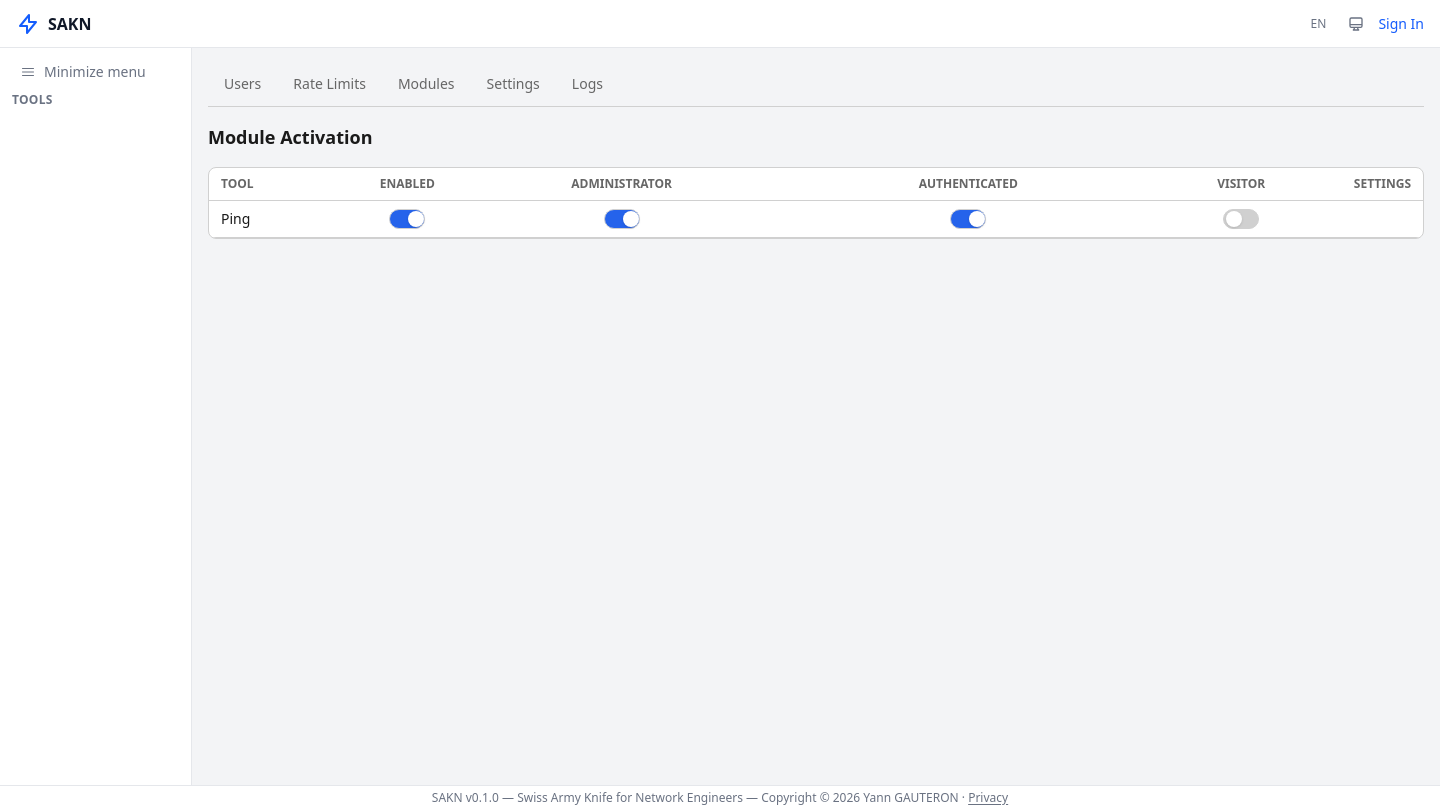
it: AdminModulesPage › interactions › preserves role permission values when toggling enabled off and on
Expected: the text "Ping" is shown, [209,200,367,238]
Expected: the 2nd switch is checked, [604,209,640,229]
Toggle Enabled OFF → role toggles become disabled
Click the 1st switch at (407, 219), box [389,209,425,229]
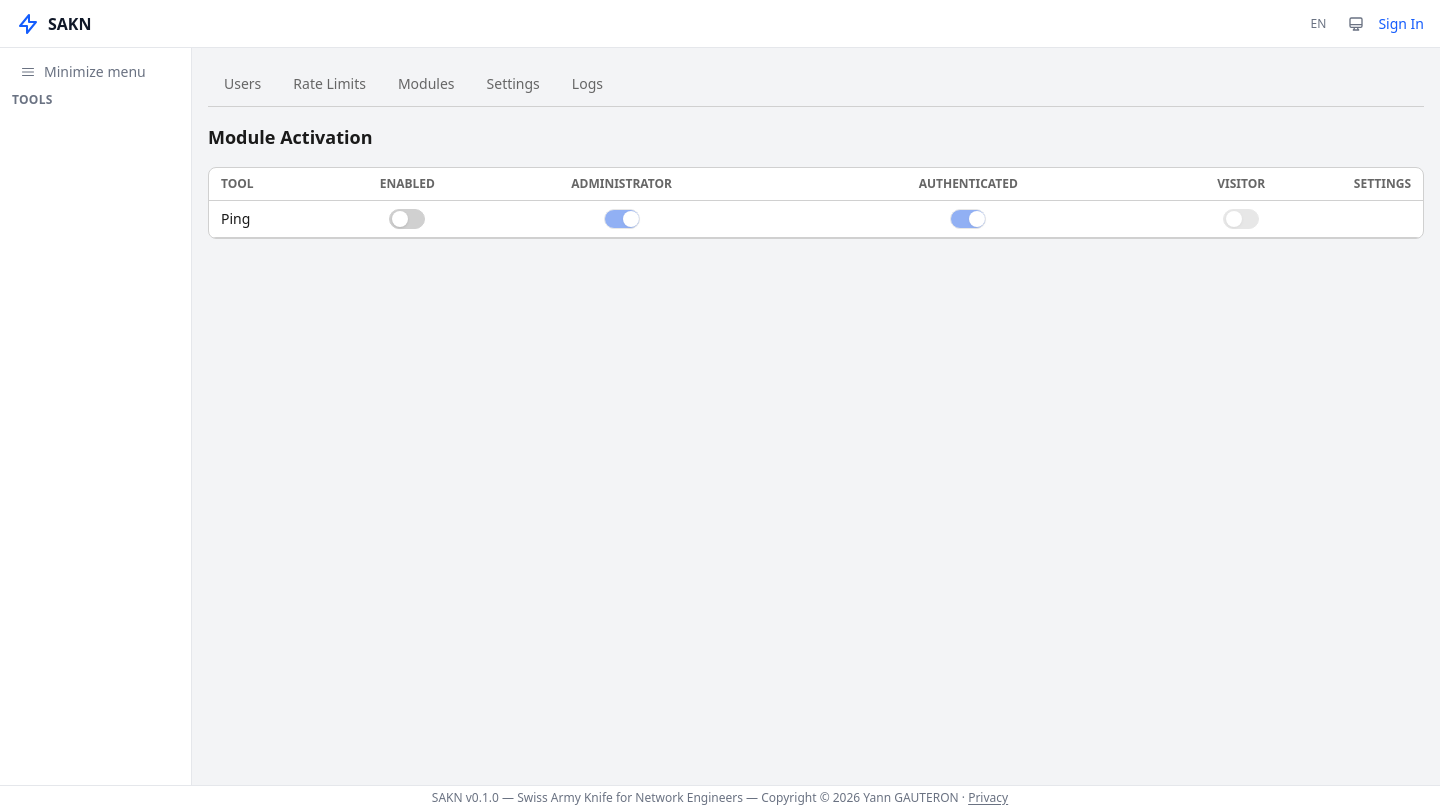
Expected: the 2nd switch is disabled, [604,209,640,229]
Expected: the 3rd switch is disabled, [950,209,986,229]
Expected: the 4th switch is disabled, [1223,209,1259,229]
Click the 1st switch at (407, 219), box [389,209,425,229]
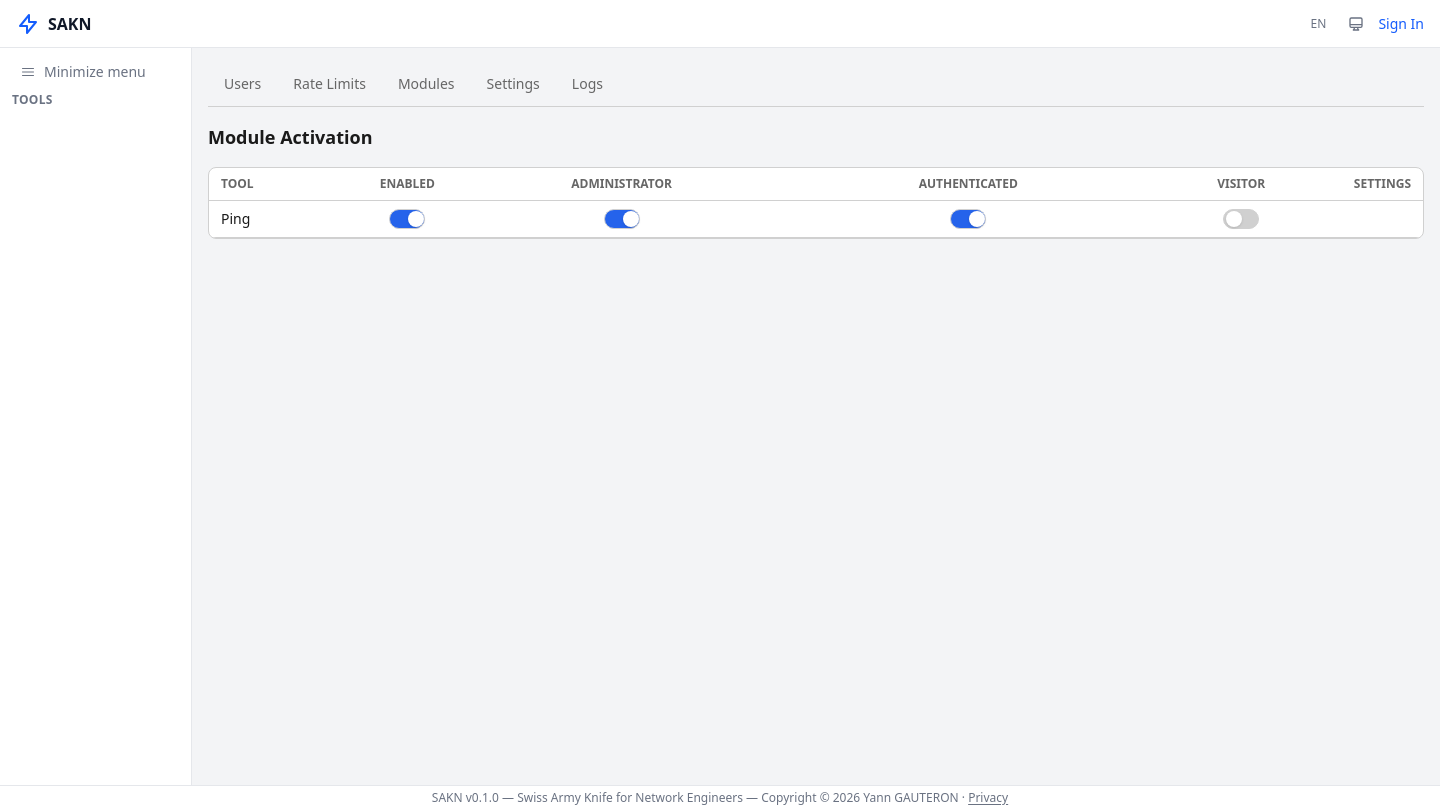
Expected: the 2nd switch is enabled, [604,209,640,229]
Expected: the 3rd switch is enabled, [950,209,986,229]
Expected: the 4th switch is enabled, [1223,209,1259,229]
